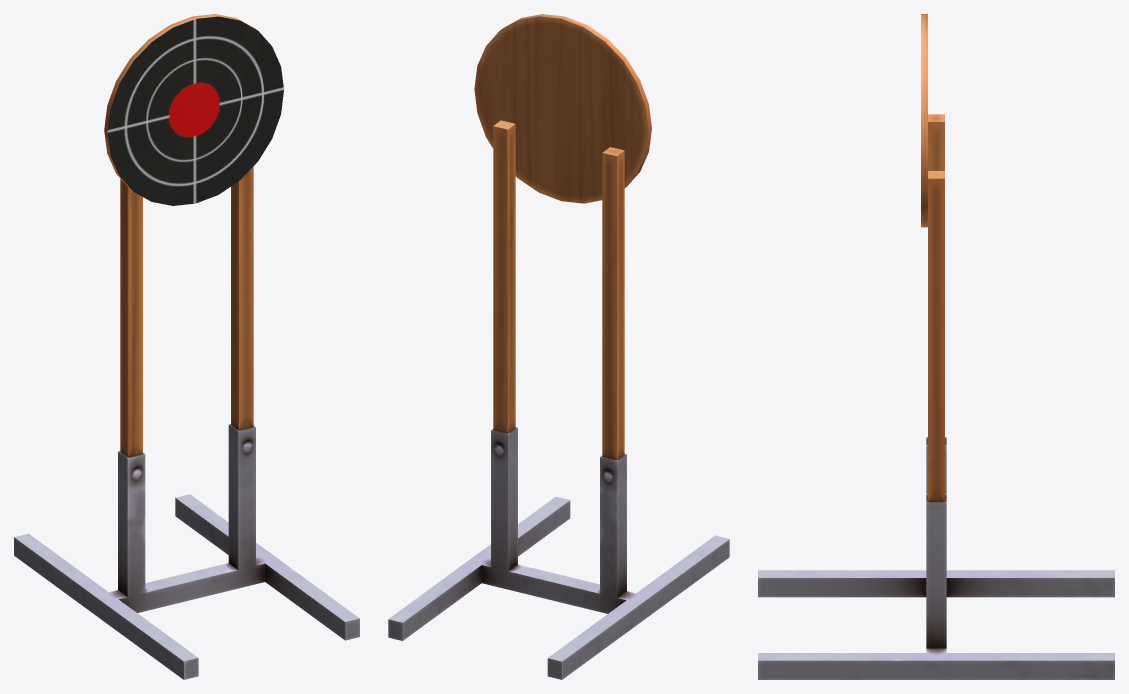
File: Target01_3.FBX
The picture shows the model from 3 angles, left to right: view 1: azimuth 30°, elevation 25°; view 2: azimuth 150°, elevation 25°; view 3: azimuth 270°, elevation 25°; orthographic projection. The views are drawn at different scales.
Visible parts, largest first — view 1: Target01_3; view 2: Target01_3; view 3: Target01_3.
Boxes of the visible parts, x1,y1,x2,y2 form: Target01_3: (14, 14, 359, 679); Target01_3: (388, 14, 729, 679); Target01_3: (758, 14, 1114, 679).
Size of what is drawn, in the model's own units: 0.4351 by 1.36 by 0.72.
